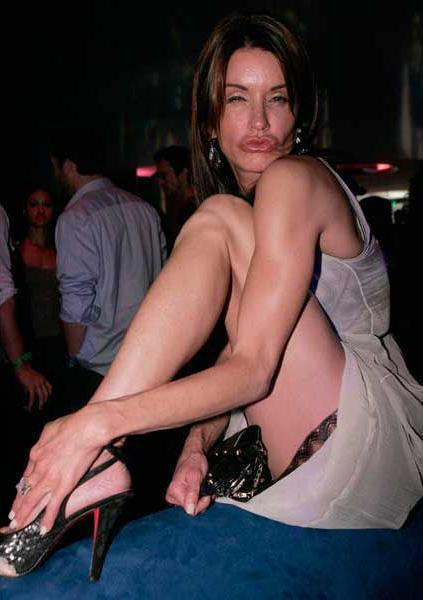Drunk: (215, 53, 293, 169)
